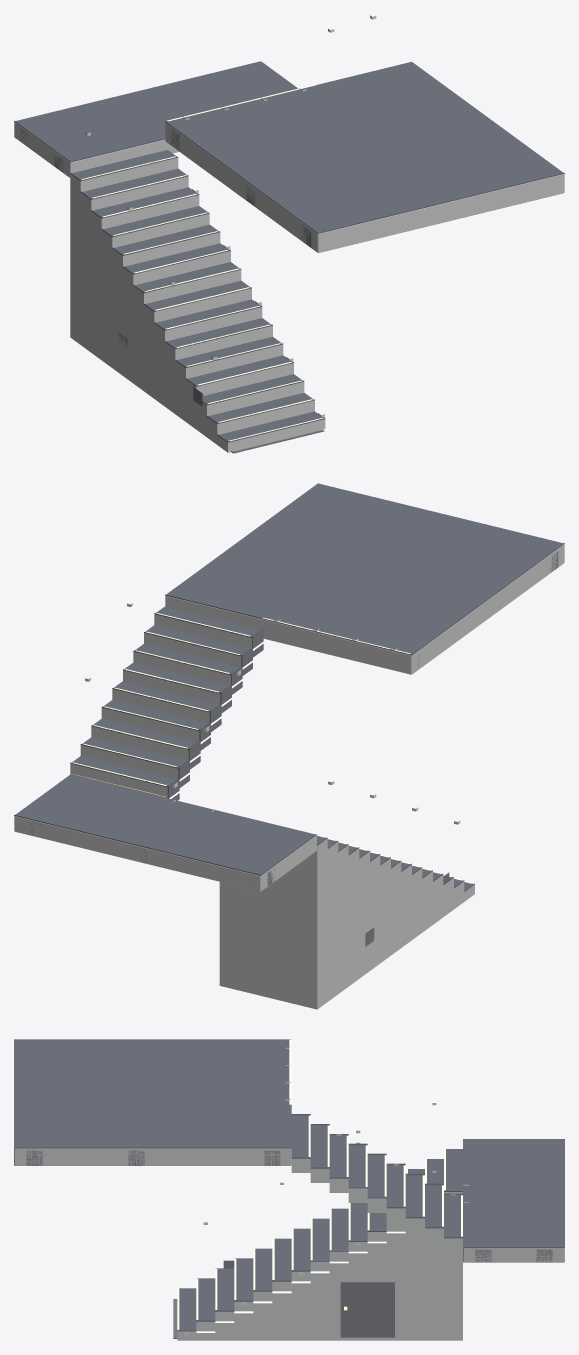
Rendered from stair_set_switchback.glb.
3 renders of one model, top to bottom at view 1: azimuth 30°, elevation 25°; view 2: azimuth 150°, elevation 25°; view 3: azimuth 270°, elevation 25°, orthographic. The views are drawn at different scales.
Visible parts, largest first — view 1: L2_Landing_Slate, Flight1_Cast, Treads_Slate, Mid_Landing_Slate, L2_Landing, Nosing_Emergency, Mid_Landing, Wall_Anchor_Plates; view 2: L2_Landing_Slate, Flight1_Cast, Mid_Landing_Slate, Flight2_Modules, Treads_Slate, L2_Landing, Mid_Landing, Flight2_Stringer_Plates, Nosing_Emergency; view 3: L2_Landing_Slate, Flight1_Cast, Treads_Slate, Mid_Landing_Slate, L2_Landing, Store_Door, Nosing_Emergency, Flight2_Modules, Mid_Landing, Wall_Anchor_Plates, Stringer_LEDs, Flight2_Stringer_Plates.
Part boxes in pixels (x1=…): L2_Landing_Slate: x1=165, y1=61, x2=564, y2=233; Flight1_Cast: x1=70, y1=157, x2=325, y2=452; Treads_Slate: x1=70, y1=150, x2=325, y2=442; Mid_Landing_Slate: x1=14, y1=61, x2=297, y2=162; L2_Landing: x1=165, y1=122, x2=564, y2=252; Nosing_Emergency: x1=82, y1=70, x2=374, y2=441; Mid_Landing: x1=14, y1=122, x2=178, y2=177; Wall_Anchor_Plates: x1=20, y1=128, x2=311, y2=406; L2_Landing_Slate: x1=165, y1=483, x2=564, y2=655; Flight1_Cast: x1=219, y1=838, x2=474, y2=1009; Mid_Landing_Slate: x1=14, y1=774, x2=317, y2=875; Flight2_Modules: x1=70, y1=614, x2=251, y2=798; Treads_Slate: x1=70, y1=606, x2=474, y2=891; L2_Landing: x1=165, y1=544, x2=564, y2=674; Mid_Landing: x1=14, y1=816, x2=316, y2=891; Flight2_Stringer_Plates: x1=167, y1=629, x2=263, y2=800; Nosing_Emergency: x1=73, y1=613, x2=472, y2=883; L2_Landing_Slate: x1=14, y1=1039, x2=291, y2=1148; Flight1_Cast: x1=177, y1=1192, x2=462, y2=1340; Treads_Slate: x1=177, y1=1115, x2=462, y2=1331; Mid_Landing_Slate: x1=463, y1=1139, x2=564, y2=1248; L2_Landing: x1=14, y1=1148, x2=291, y2=1165; Store_Door: x1=340, y1=1282, x2=394, y2=1337; Nosing_Emergency: x1=177, y1=1039, x2=462, y2=1329; Flight2_Modules: x1=291, y1=1158, x2=462, y2=1252; Mid_Landing: x1=463, y1=1248, x2=564, y2=1262; Wall_Anchor_Plates: x1=26, y1=1150, x2=552, y2=1268; Stringer_LEDs: x1=196, y1=1231, x2=405, y2=1332; Flight2_Stringer_Plates: x1=291, y1=1114, x2=462, y2=1194.
Bounding box in the file's own units: 3.8 × 4.47 × 8.1.
